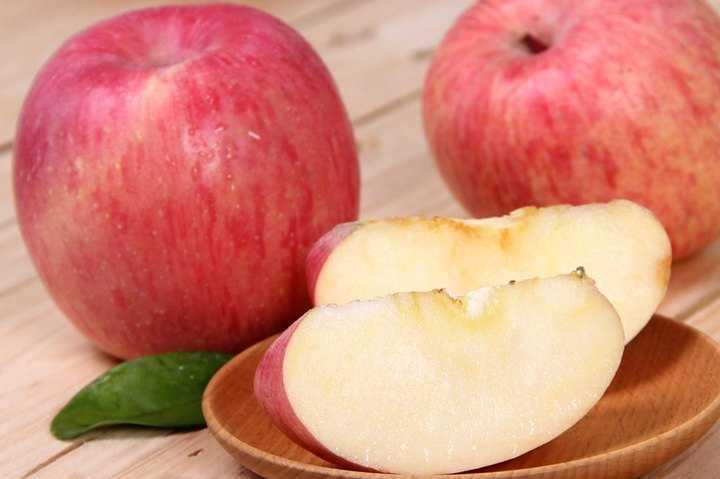apple: (10, 4, 361, 361), (252, 270, 626, 474), (421, 1, 720, 250), (298, 198, 674, 346)
